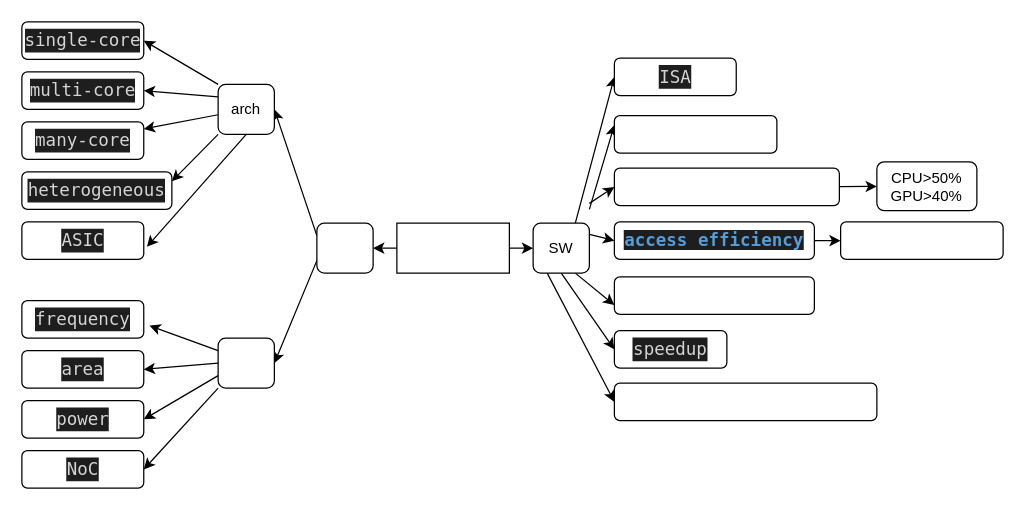
This 1025x510 diagram has some shape labels left out. Each missing label, with the box of its shape:
bandwidth>30%: (839, 221, 1003, 259)
computing efficiency: (613, 167, 839, 206)
execution time: (613, 114, 777, 153)
factors: (217, 337, 274, 388)
HW: (316, 222, 373, 273)
optimization upper limit: (613, 382, 877, 421)
performance: (396, 222, 509, 273)
throughput & delay: (613, 276, 814, 314)
